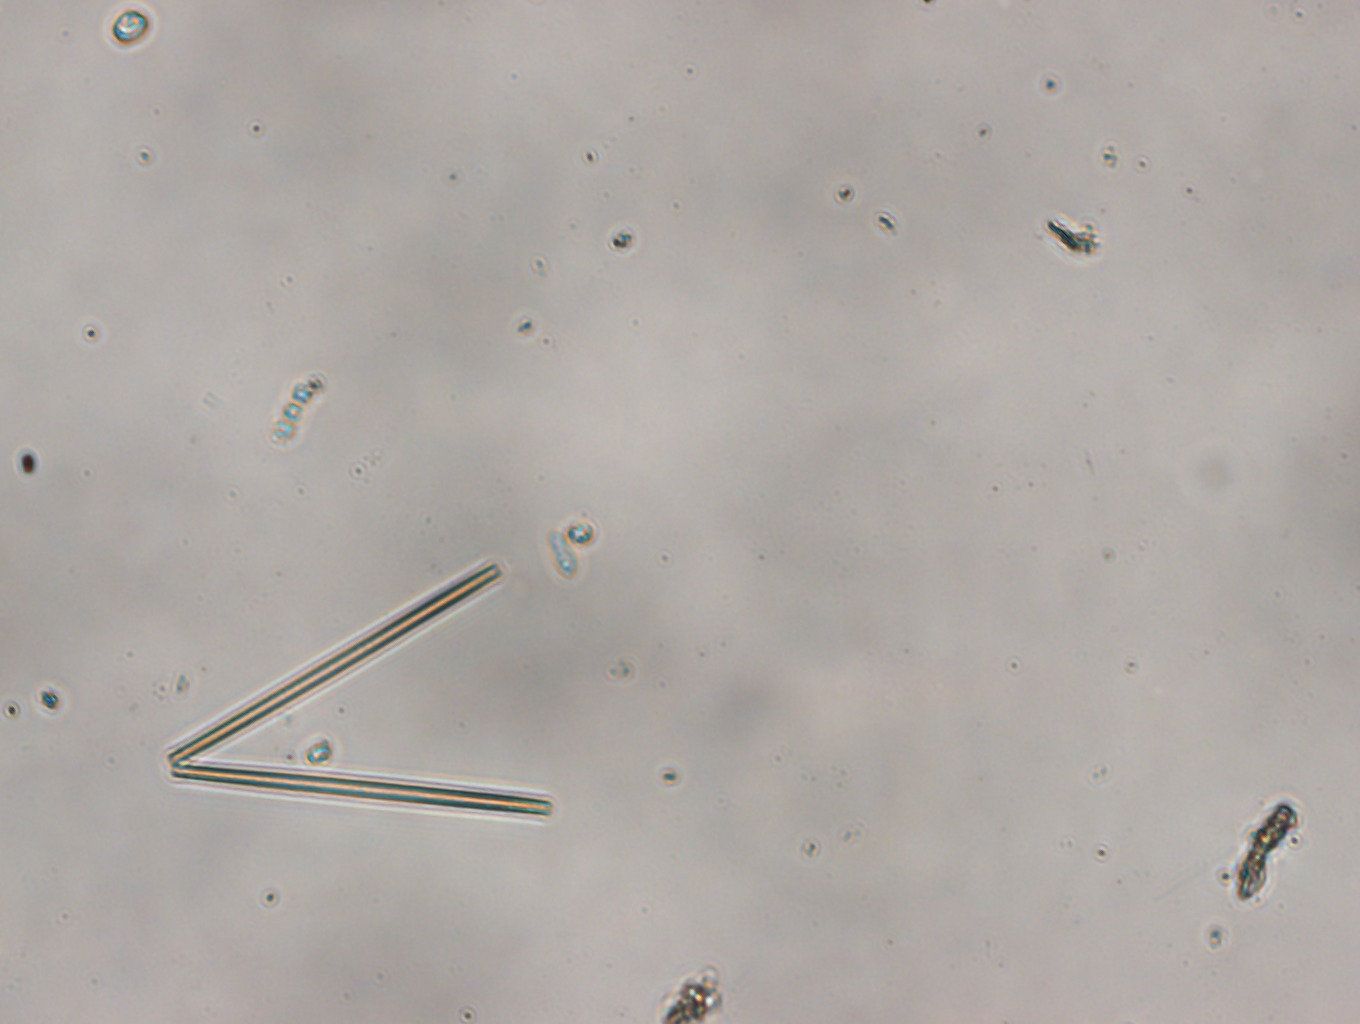thalassionema frauenfeldii: (167, 561, 552, 817)
